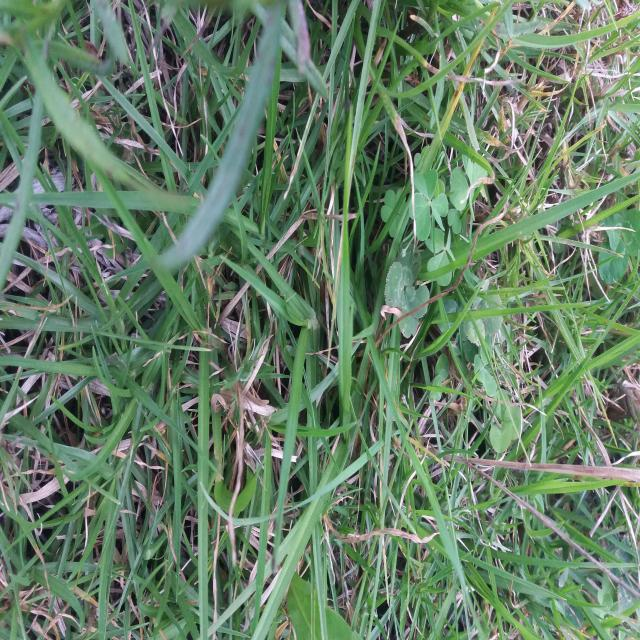Four Leaf Clover: (384, 242, 429, 338)
